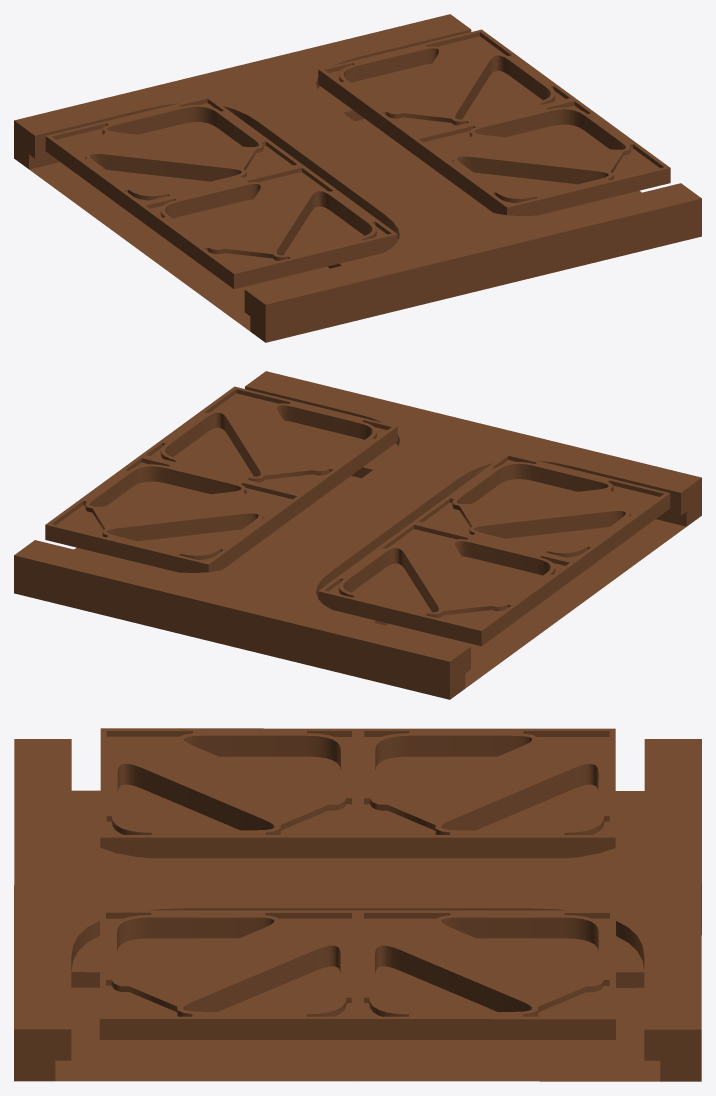
Rendered from Cealing_A_B.FBX.
3 views of the same model, one above another, from view 1: azimuth 30°, elevation 25°; view 2: azimuth 150°, elevation 25°; view 3: azimuth 270°, elevation 25° (orthographic). The views are drawn at different scales.
Visible parts, largest first — view 1: Cealing_A_B; view 2: Cealing_A_B; view 3: Cealing_A_B.
Boxes of the visible parts, x1=… form: Cealing_A_B: x1=14, y1=14, x2=701, y2=342; Cealing_A_B: x1=14, y1=371, x2=701, y2=699; Cealing_A_B: x1=14, y1=728, x2=701, y2=1081.
Size of the model in its own units: 600 by 60 by 600.
